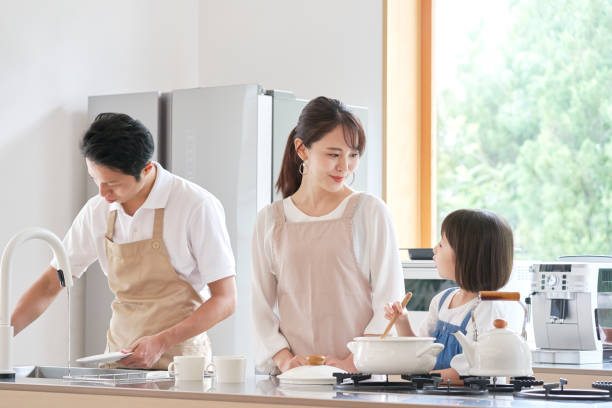without mask: (290, 110, 372, 212), (76, 120, 158, 222), (420, 214, 513, 302)
